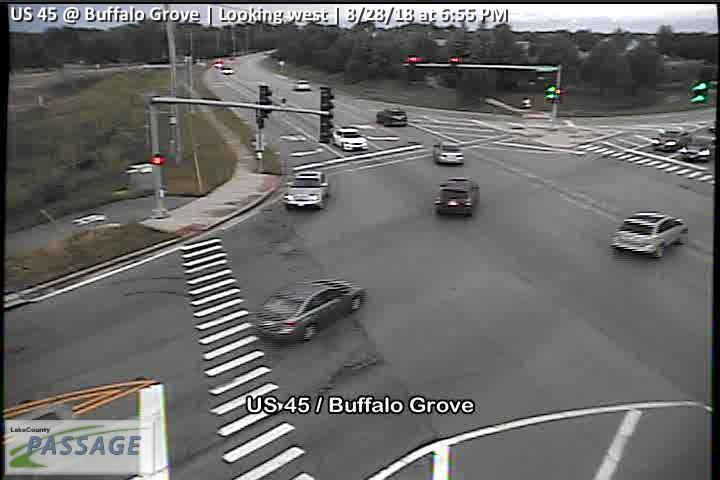SUV: (250, 276, 370, 344), (432, 176, 480, 219), (284, 169, 330, 211), (679, 128, 720, 163), (332, 126, 369, 155), (432, 138, 466, 168), (376, 105, 409, 128), (292, 77, 311, 91), (219, 65, 235, 77)
Sedan: (609, 209, 691, 260), (651, 122, 691, 153)
